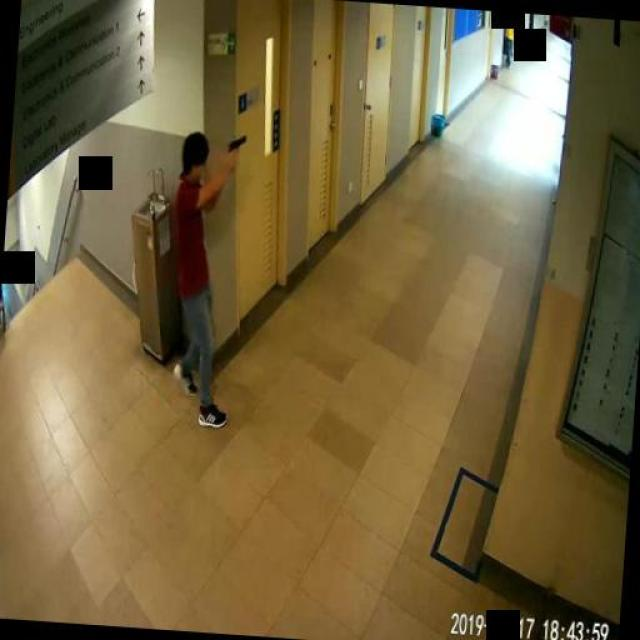gun: (226, 132, 245, 162)
